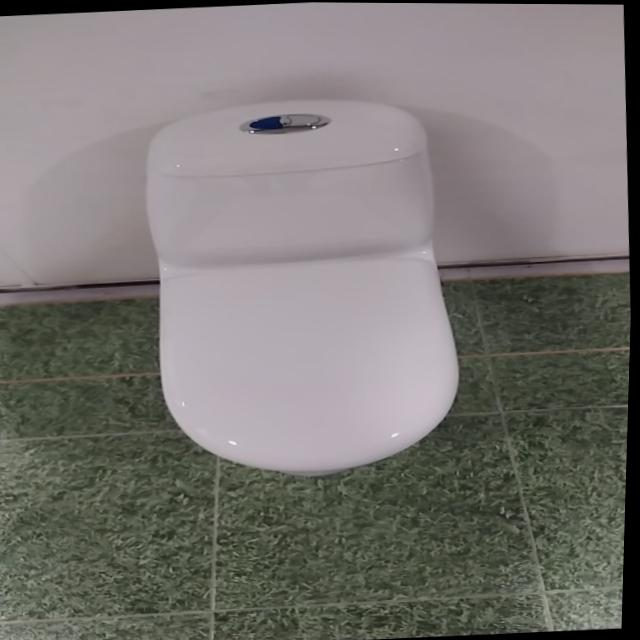toilet: (135, 90, 475, 485)
